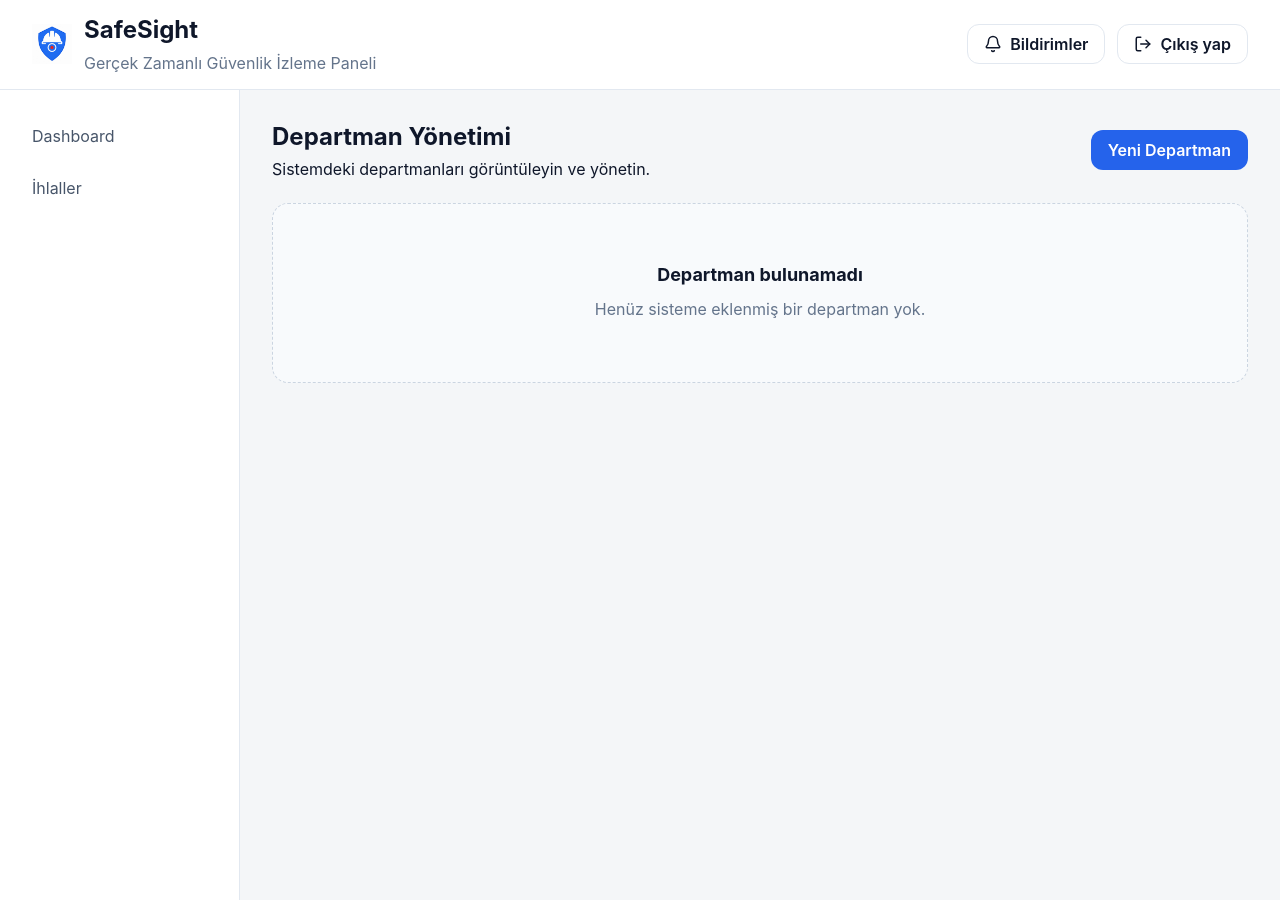
Test: DepartmentManagementPage › creates a department and refreshes the list
Click the button "Yeni Departman" at (1169, 150), box [1091,130,1248,170]
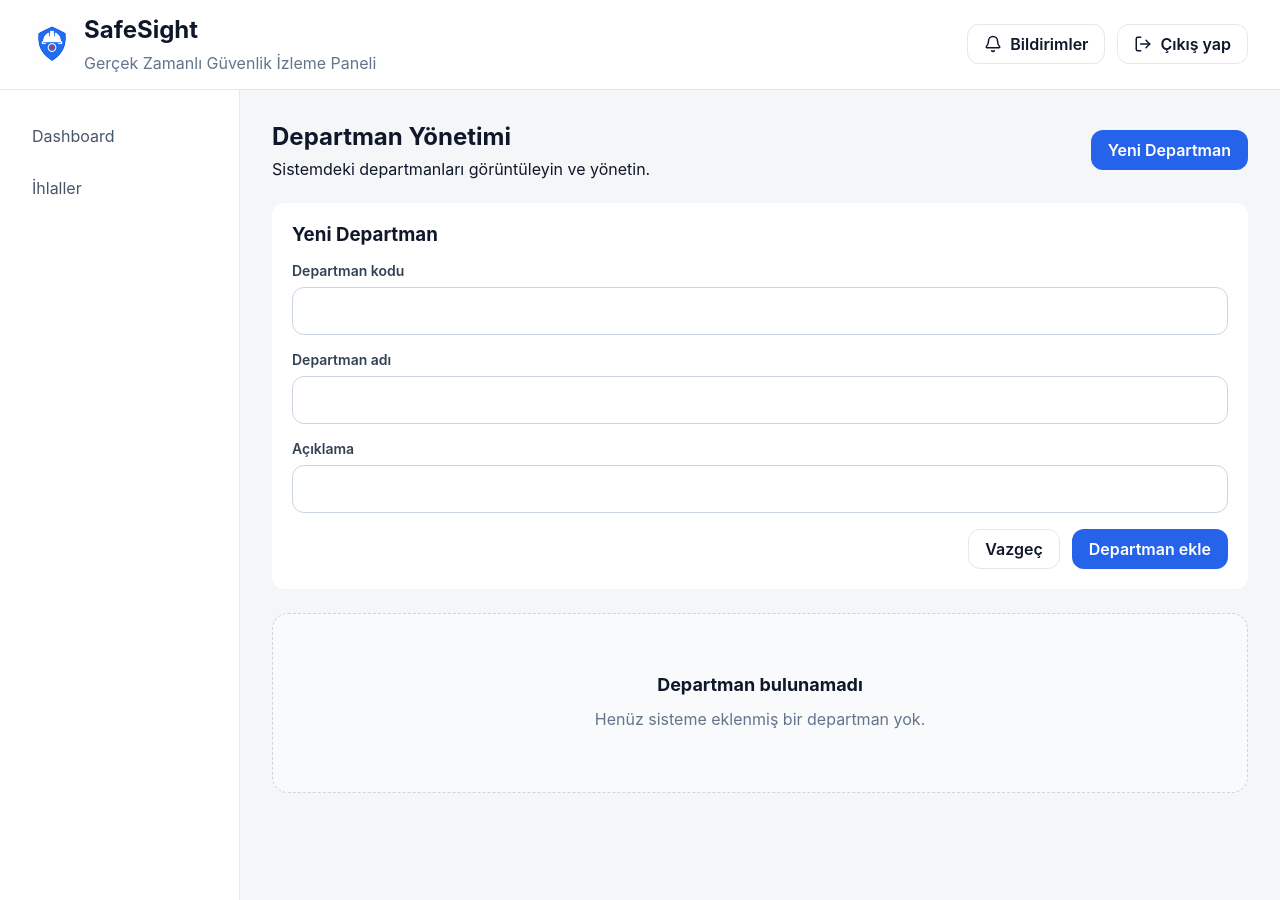
Type " uretim " into the field labelled "Departman kodu" at (760, 311), box [292,287,1228,335]
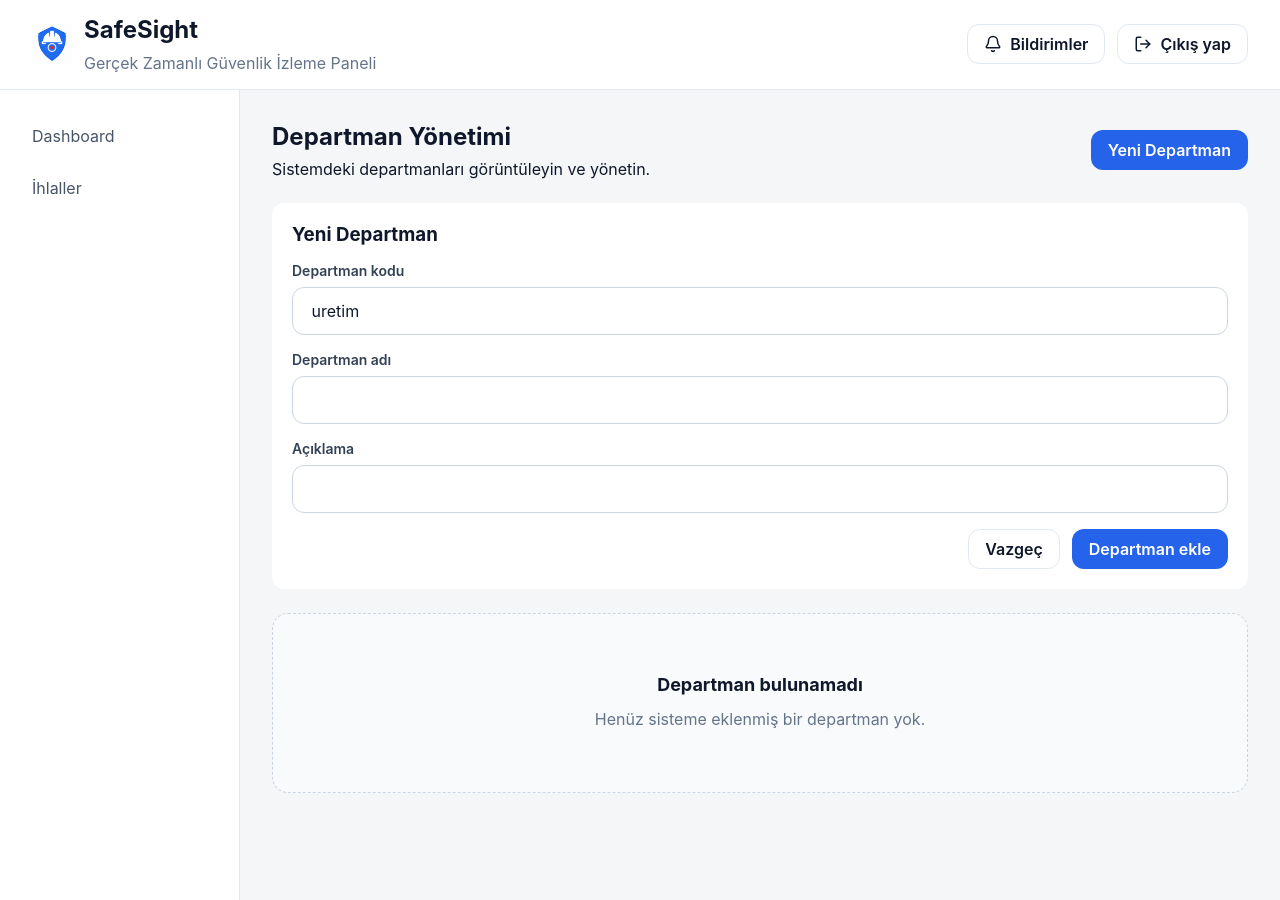
Type " Üretim " into the field labelled "Departman adı" at (760, 400), box [292,376,1228,424]
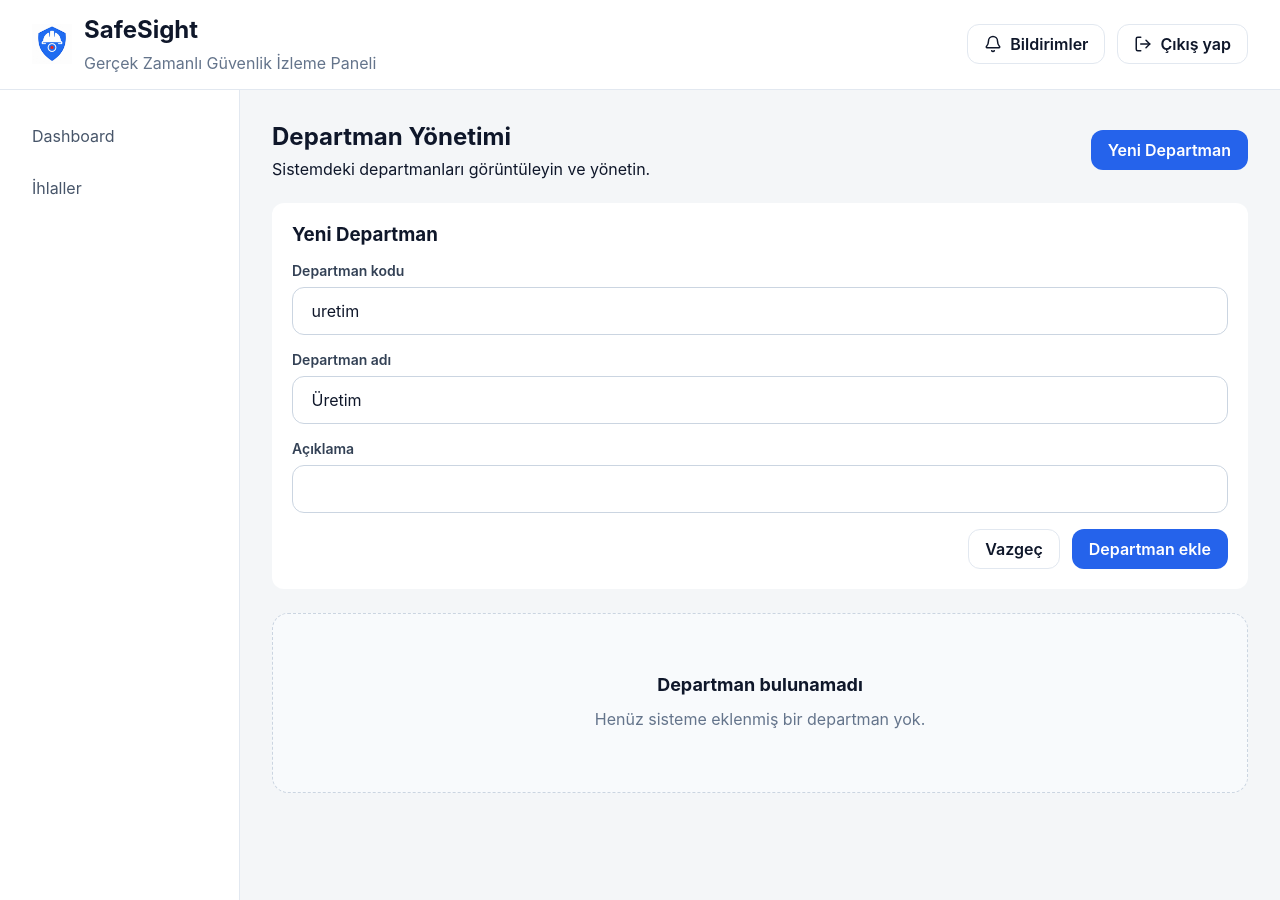
Type " Üretim departmanı " into the field labelled "Açıklama" at (760, 489), box [292,465,1228,513]
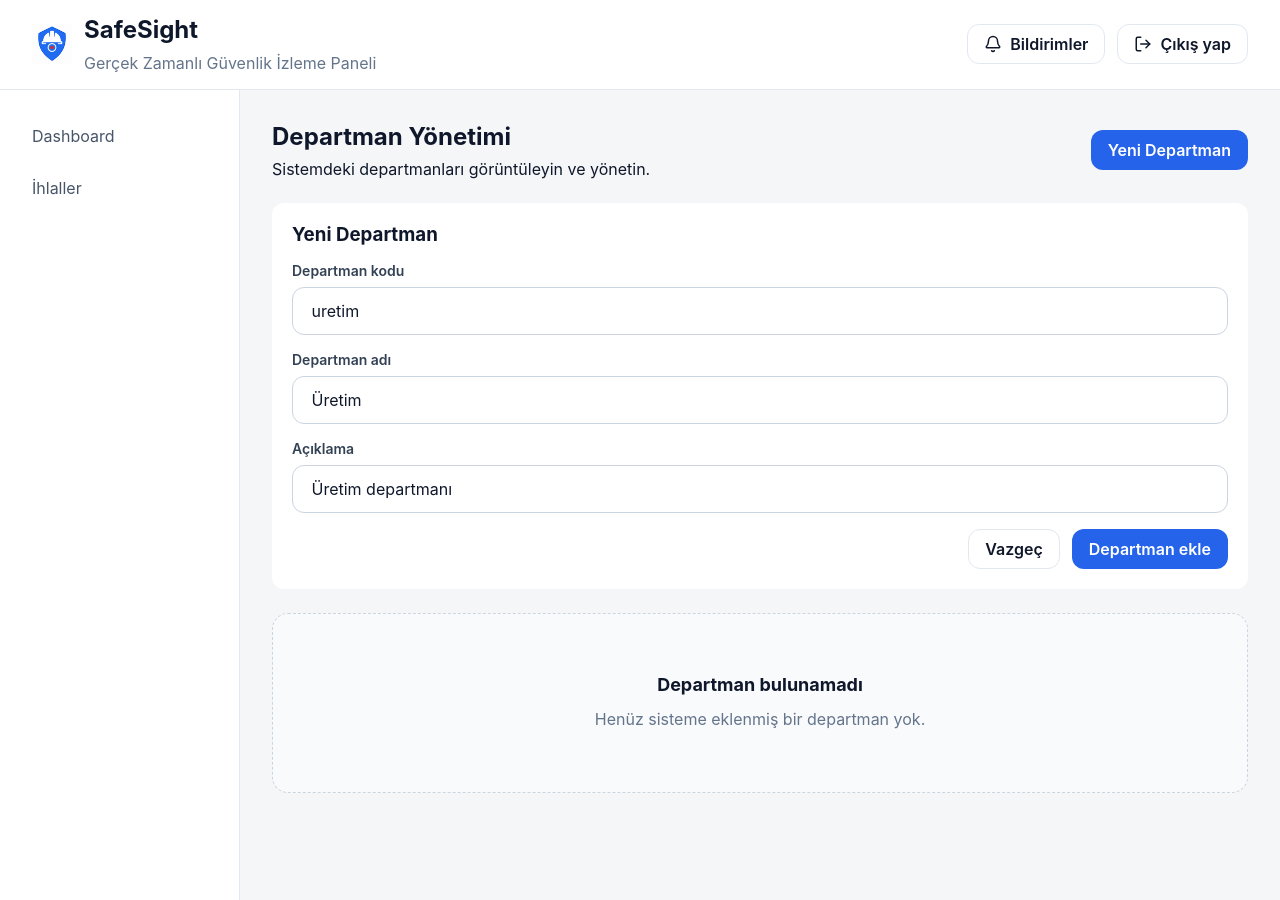
Click the button "Departman ekle" at (1150, 549), box [1072,529,1228,569]
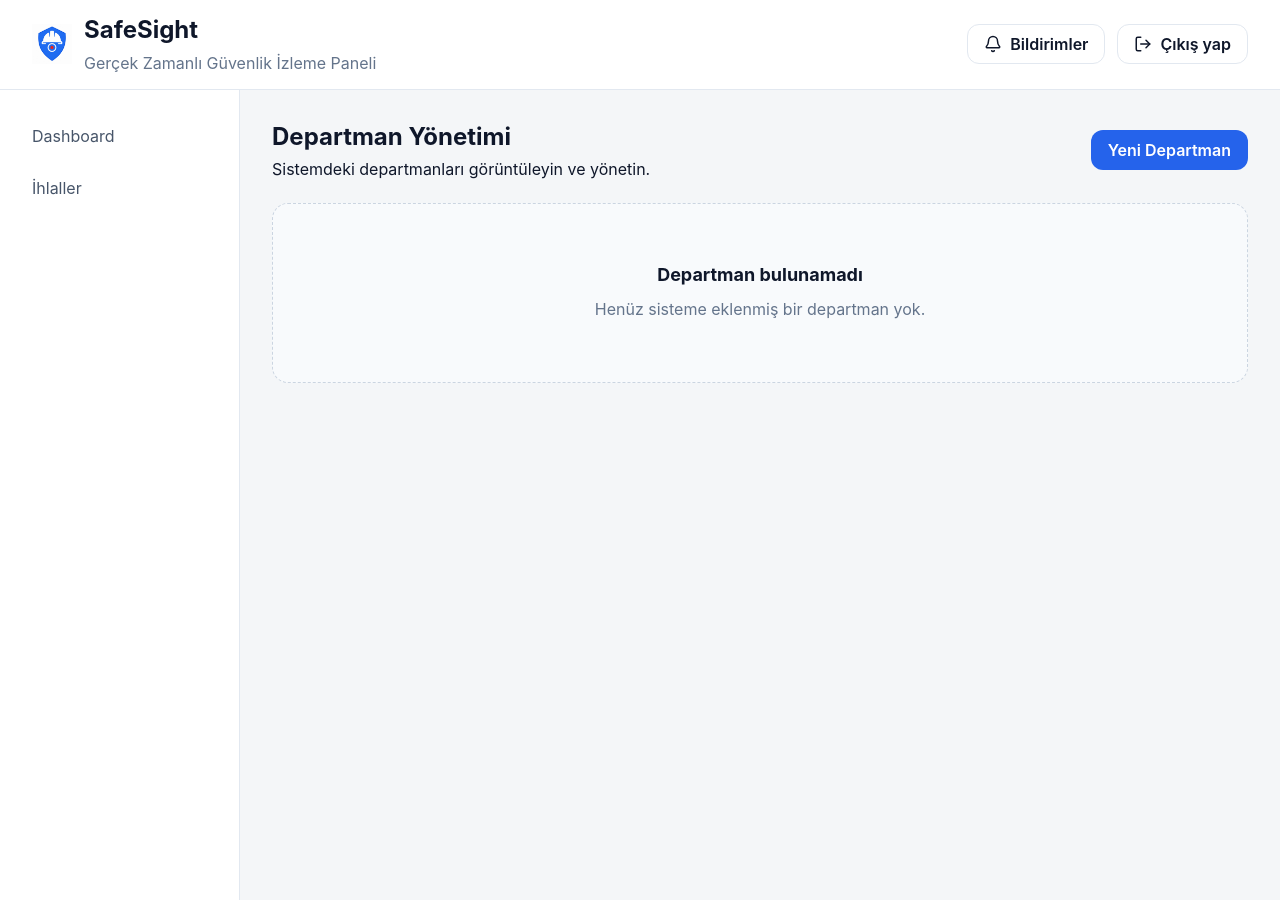
Check: the button "Departman ekle" is gone
